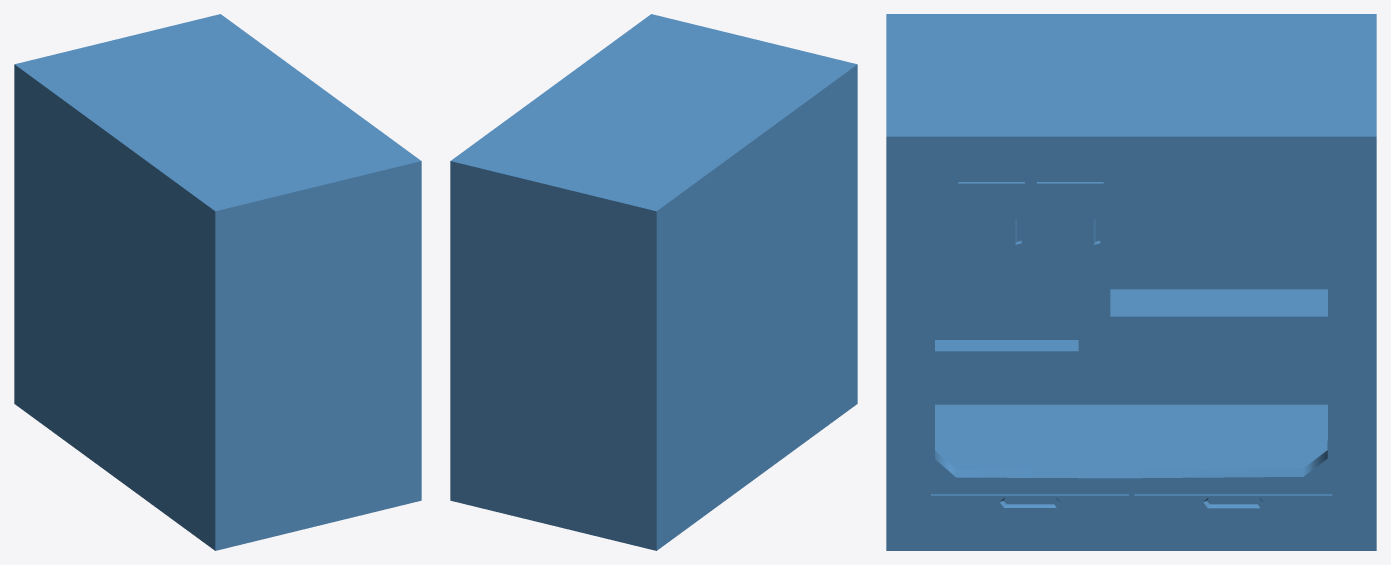
File: BedCube.fbx
3 views of the same model, side by side, from view 1: azimuth 30°, elevation 25°; view 2: azimuth 150°, elevation 25°; view 3: azimuth 270°, elevation 25° (orthographic). The views are drawn at different scales.
Parts seen in each view (by area): view 1: bedcube; view 2: bedcube; view 3: bedcube.
Part boxes in pixels (<box>): bedcube: <box>14,14,421,550</box>; bedcube: <box>450,14,857,550</box>; bedcube: <box>886,14,1376,550</box>.
Size of the model in its own units: 59.23 by 92.01 by 98.65.
